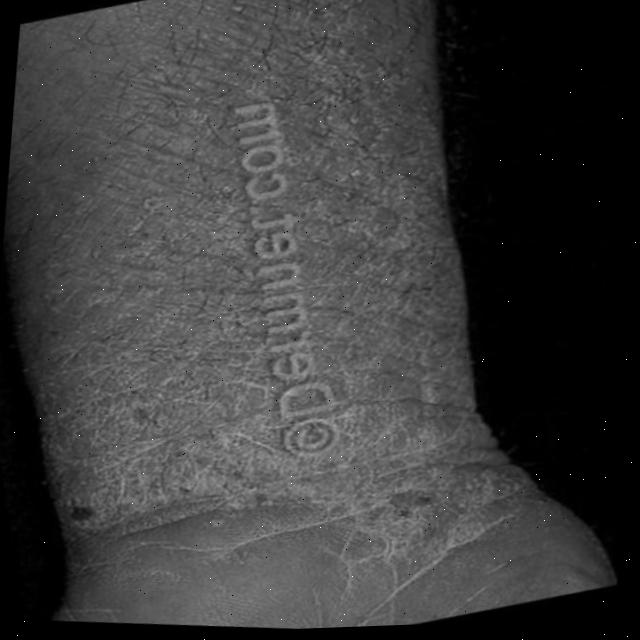Eczema: (11, 43, 538, 586)
